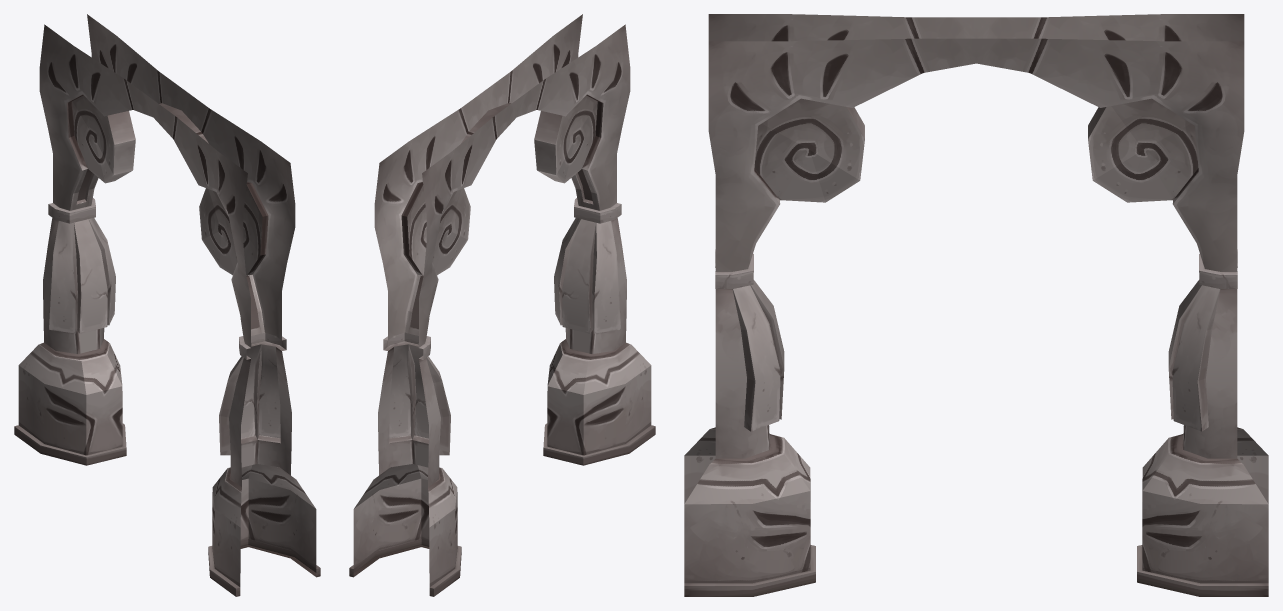
Rendered from Archway.FBX.
3 views of the same model, side by side, from view 1: azimuth 30°, elevation 25°; view 2: azimuth 150°, elevation 25°; view 3: azimuth 270°, elevation 25° (orthographic). The views are drawn at different scales.
Parts seen in each view (by area): view 1: Archway; view 2: Archway; view 3: Archway.
Part boxes in pixels (left/top/right/bottom): Archway: left=14, top=14, right=320, bottom=596; Archway: left=349, top=14, right=655, bottom=596; Archway: left=684, top=14, right=1268, bottom=596.
Size of the model in its own units: 87.42 by 406 by 397.
